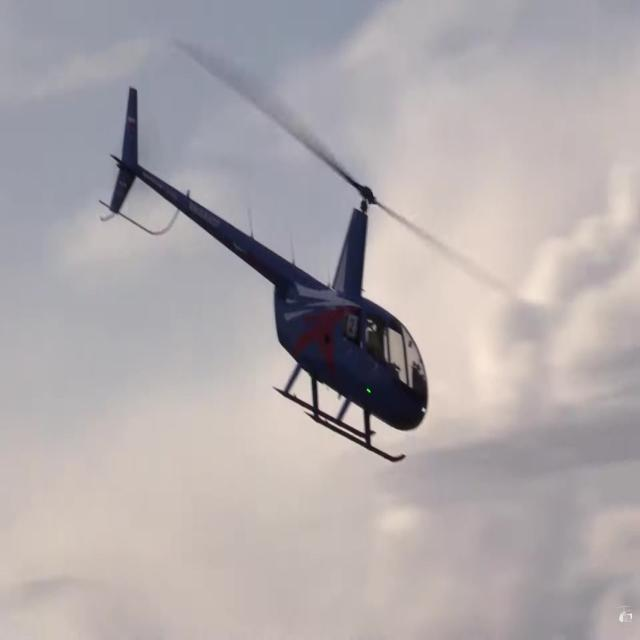CIV_HELO: (106, 84, 430, 468)
